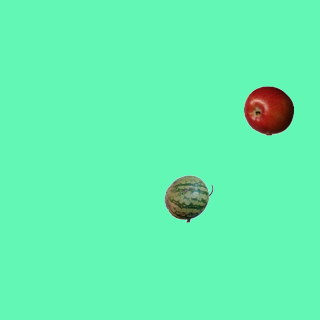Apple Braeburn: (243, 85, 293, 135)
Watermelon: (163, 173, 213, 223)
